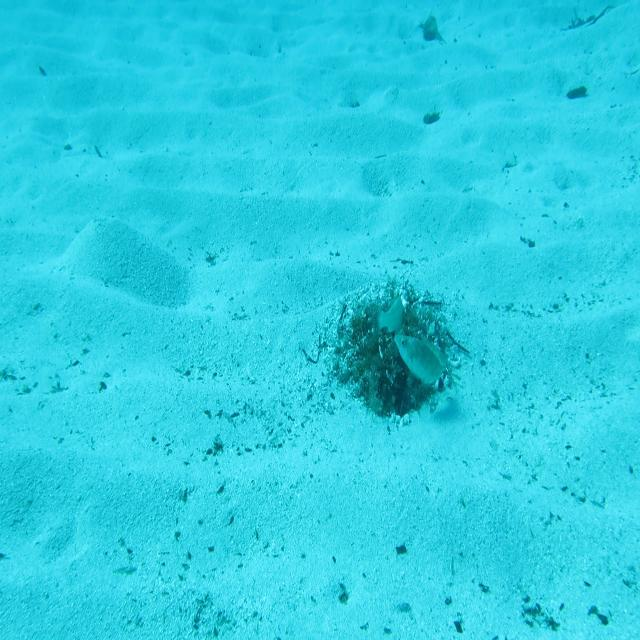BEND: (390, 330, 450, 391)
female: (362, 289, 406, 346)
nest: (335, 279, 460, 440)
